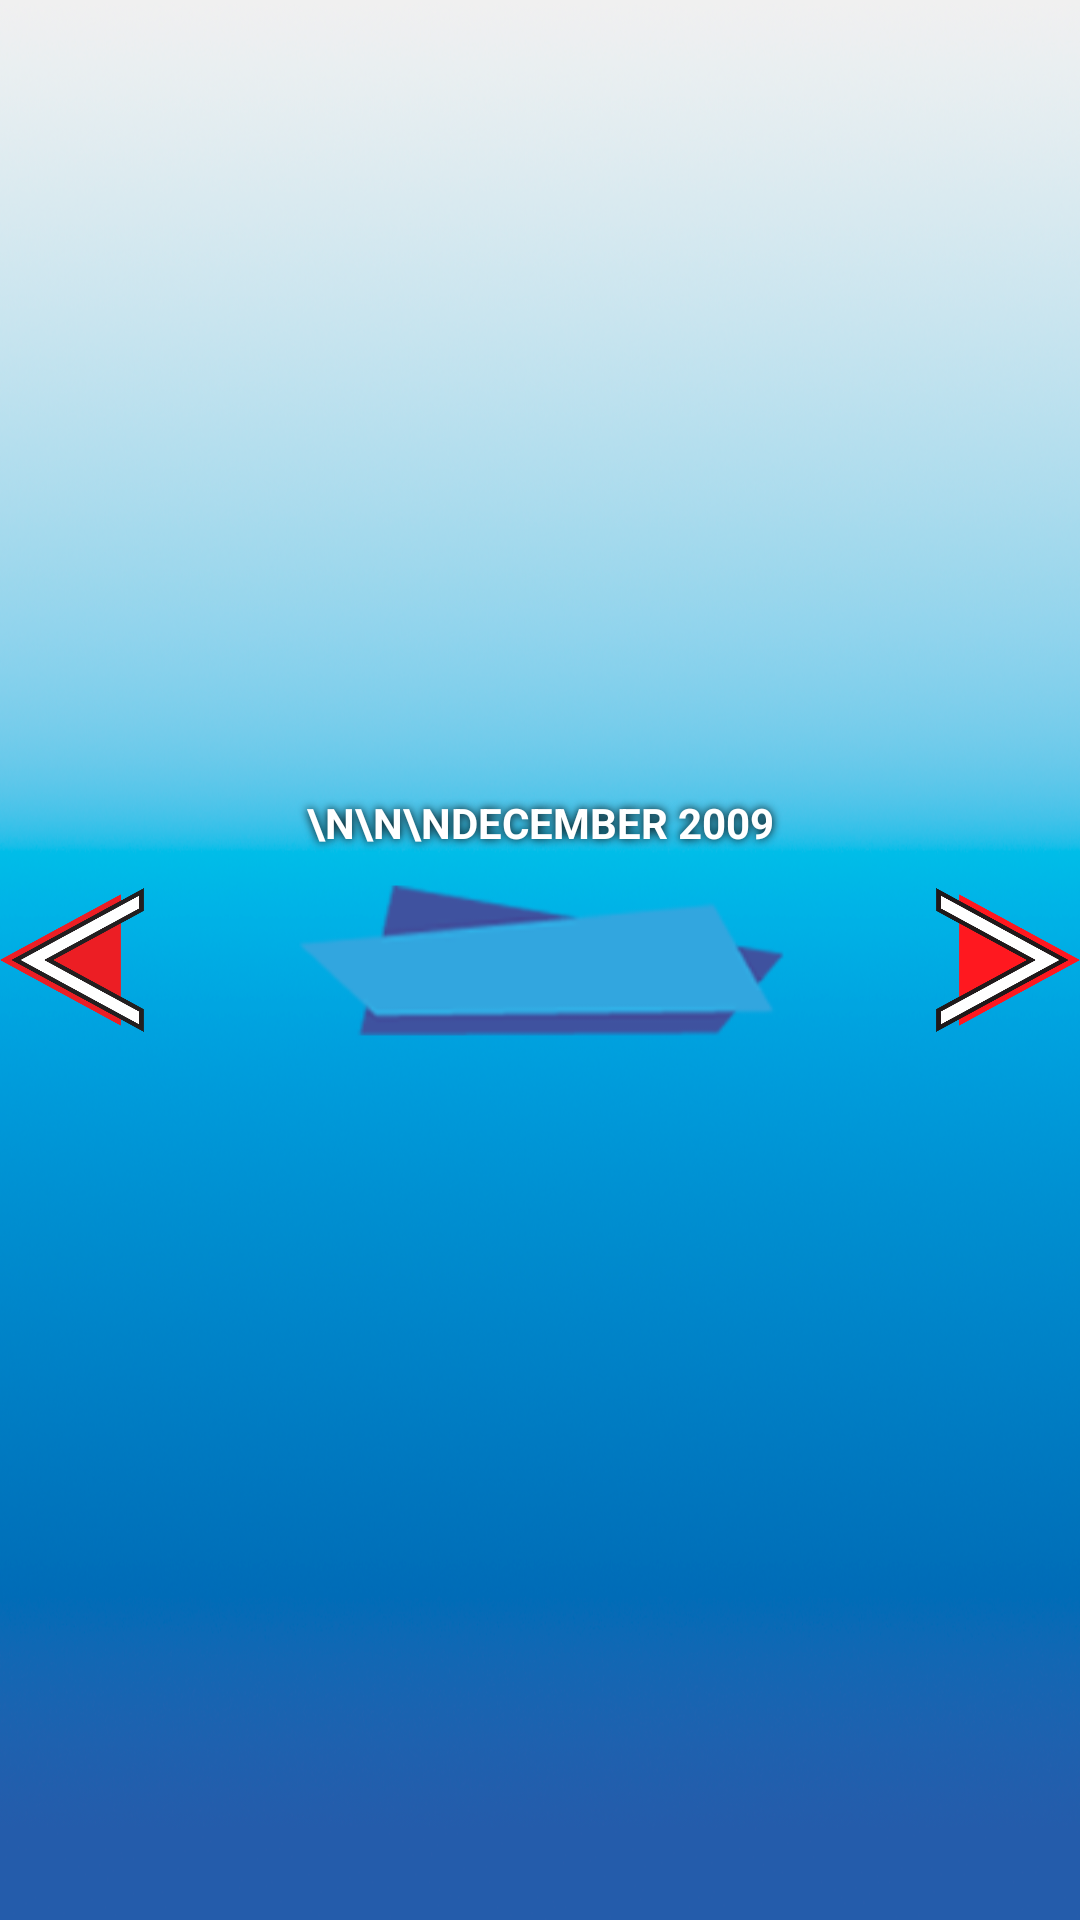

Icons on this 1080w x 1920h Android screen, each with its box as [x1, y1, x2, y2]:
Next month: [936, 888, 1080, 1032]
Previous month: [0, 888, 144, 1032]
